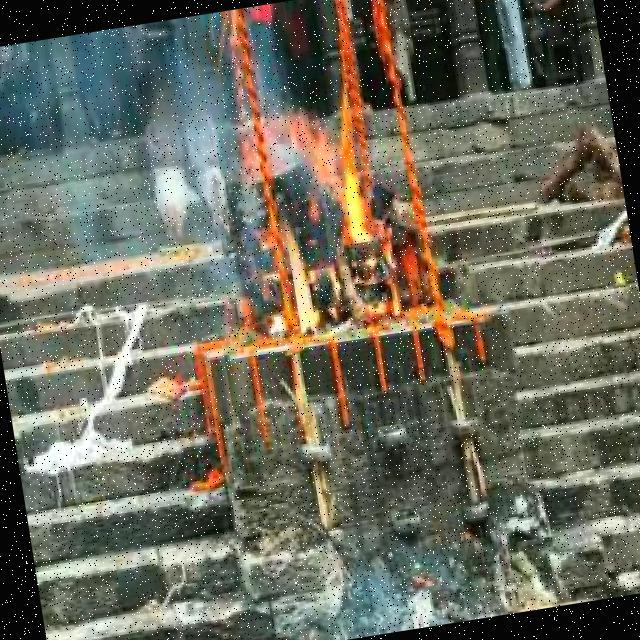Fire: (293, 100, 384, 257), (258, 217, 329, 344)
